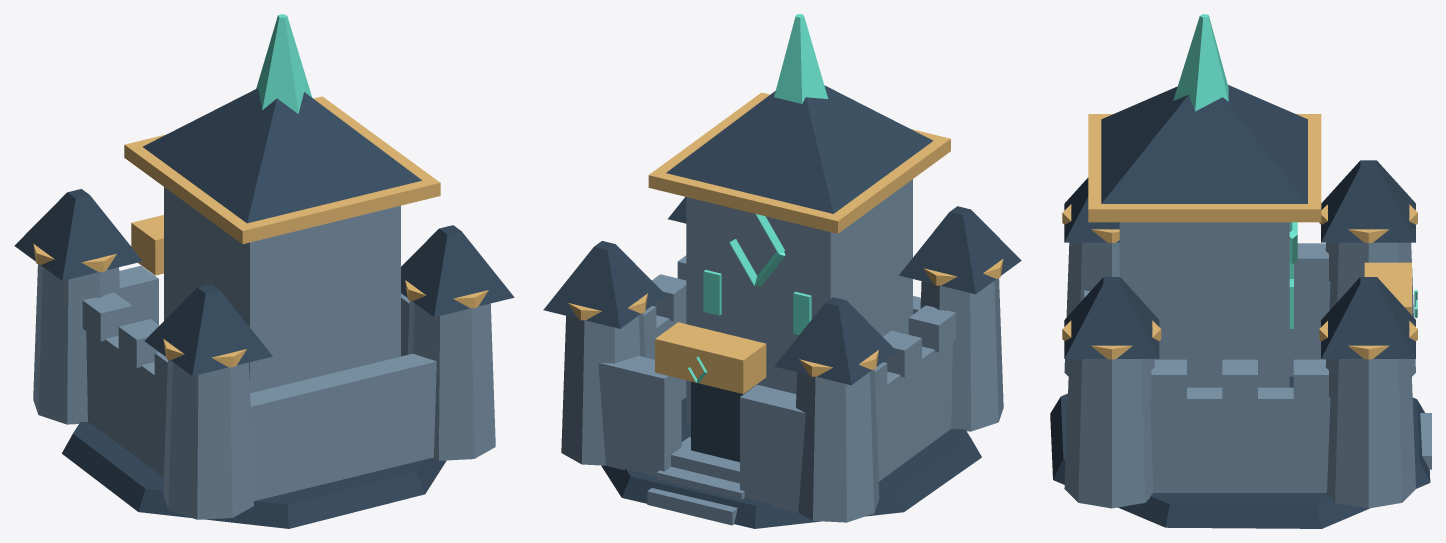
Rendered from City.fbx.
The picture shows the model from 3 angles, left to right: view 1: azimuth 30°, elevation 25°; view 2: azimuth 150°, elevation 25°; view 3: azimuth 270°, elevation 25°; orthographic projection. The views are drawn at different scales.
Visible parts, largest first — view 1: City; view 2: City; view 3: City.
Boxes of the visible parts, x1,y1,x2,y2 form: City: (14, 14, 514, 528); City: (543, 14, 1021, 528); City: (1050, 14, 1431, 528).
Size of the model in its own units: 2 by 2.5 by 2.
